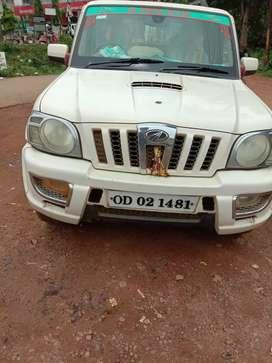OD021481: (105, 189, 198, 214)
